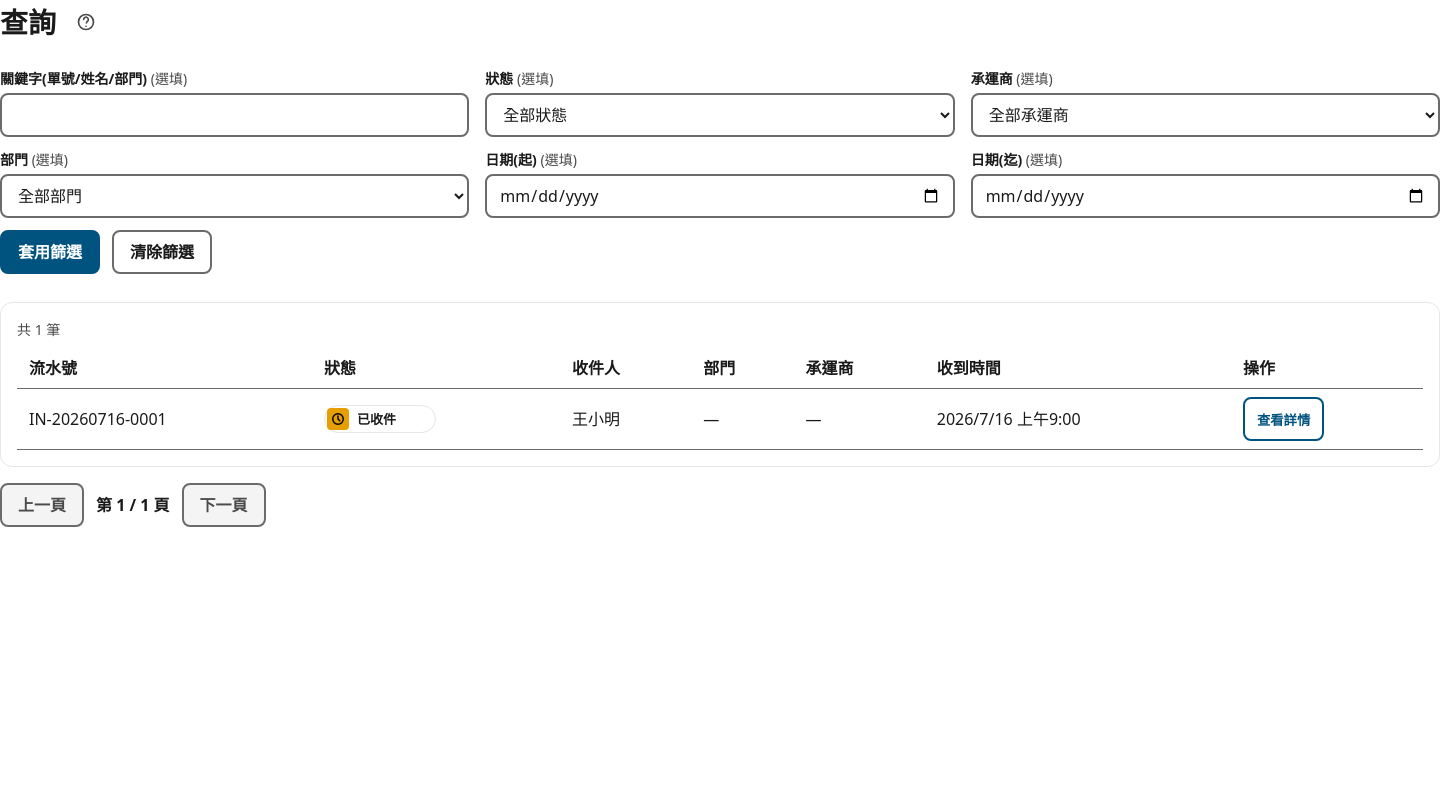
Test: SearchPage — 作廢登記 › 沒填理由時確定鍵是停用的
Click the button with class "search-page__detail-btn" at {"x": 1284, "y": 419}, box [1243,397,1324,441]
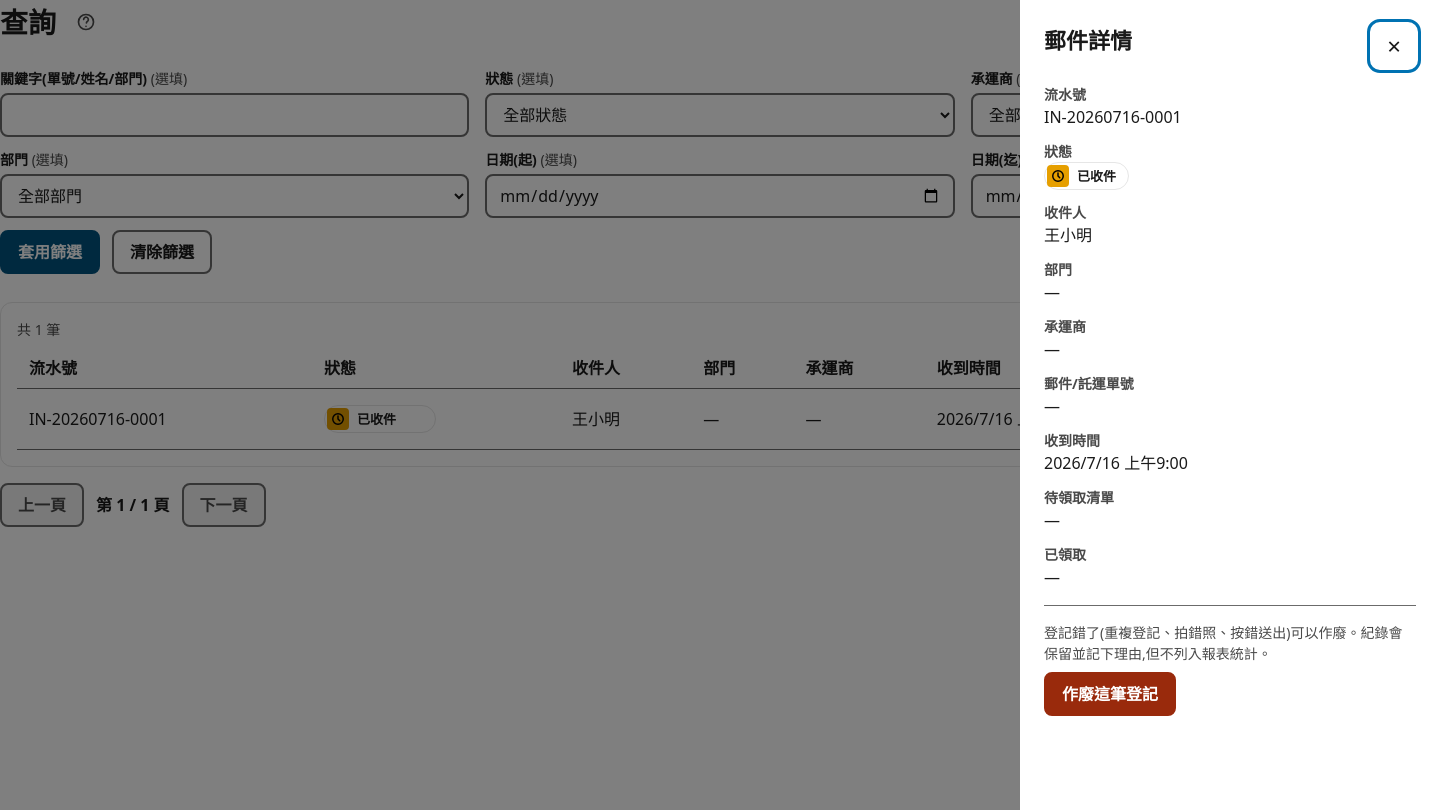
Click the button "作廢這筆登記" at {"x": 1110, "y": 694}, box [1044,672,1176,716]
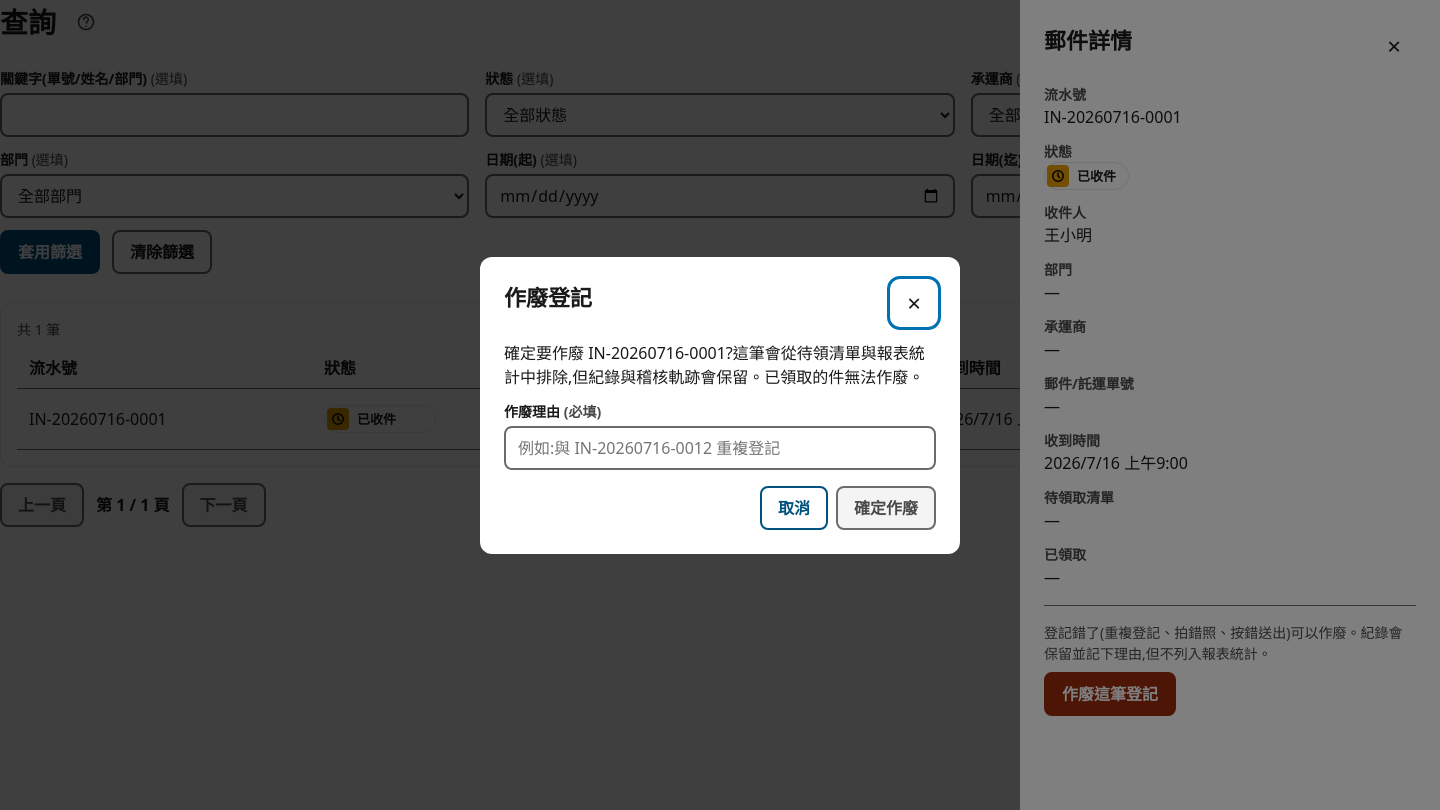
Expected: the button "確定作廢" is disabled, [836,486,936,530]
